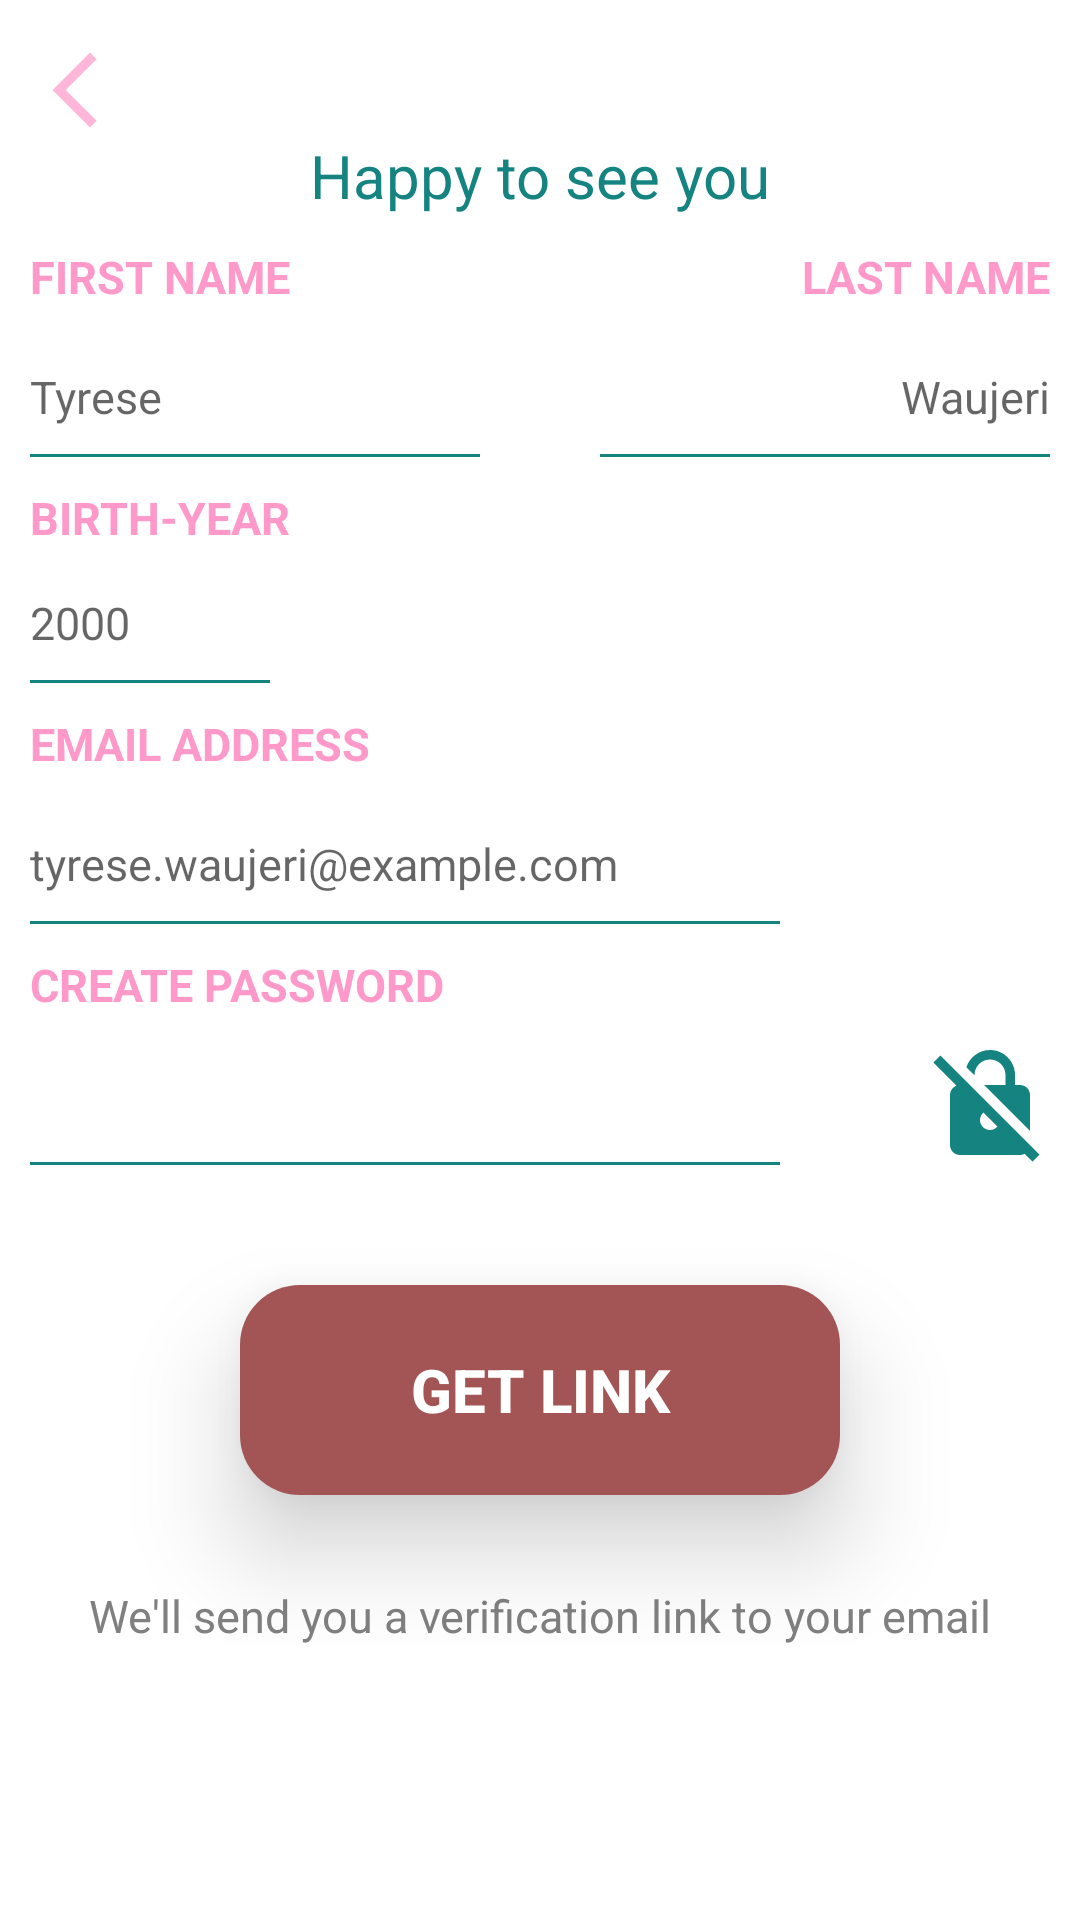

Named icons in this screenshot (1080px×1920px) and their centers, (x=x, y=y):
back: (x=74, y=90)
